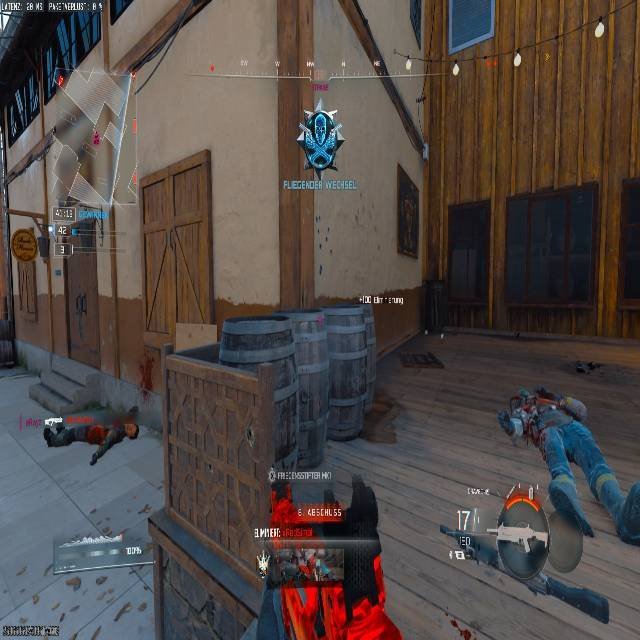head: (42, 421, 69, 447), (122, 421, 139, 439)
player: (299, 105, 344, 180)
